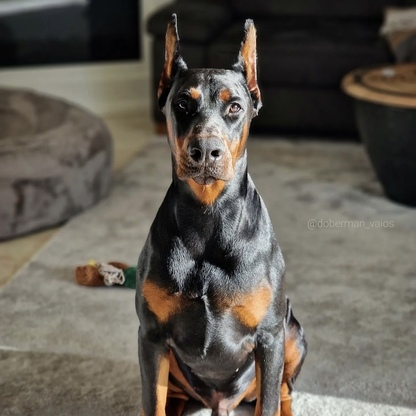doberman: (133, 8, 312, 414)
